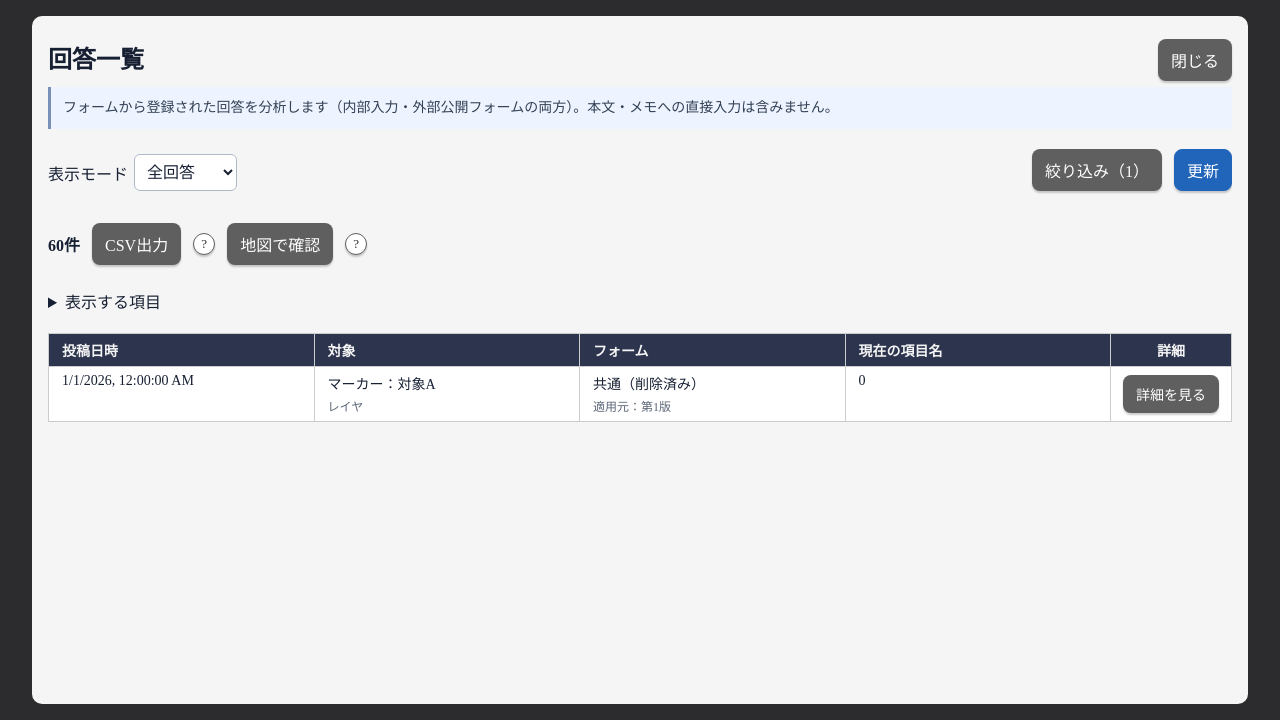
it: 回答一覧 › 共通フォームの検索と削除済み表示、投稿時定義の詳細を表示する
Click the button "詳細を見る" at (1171,394), box [1123,375,1219,413]
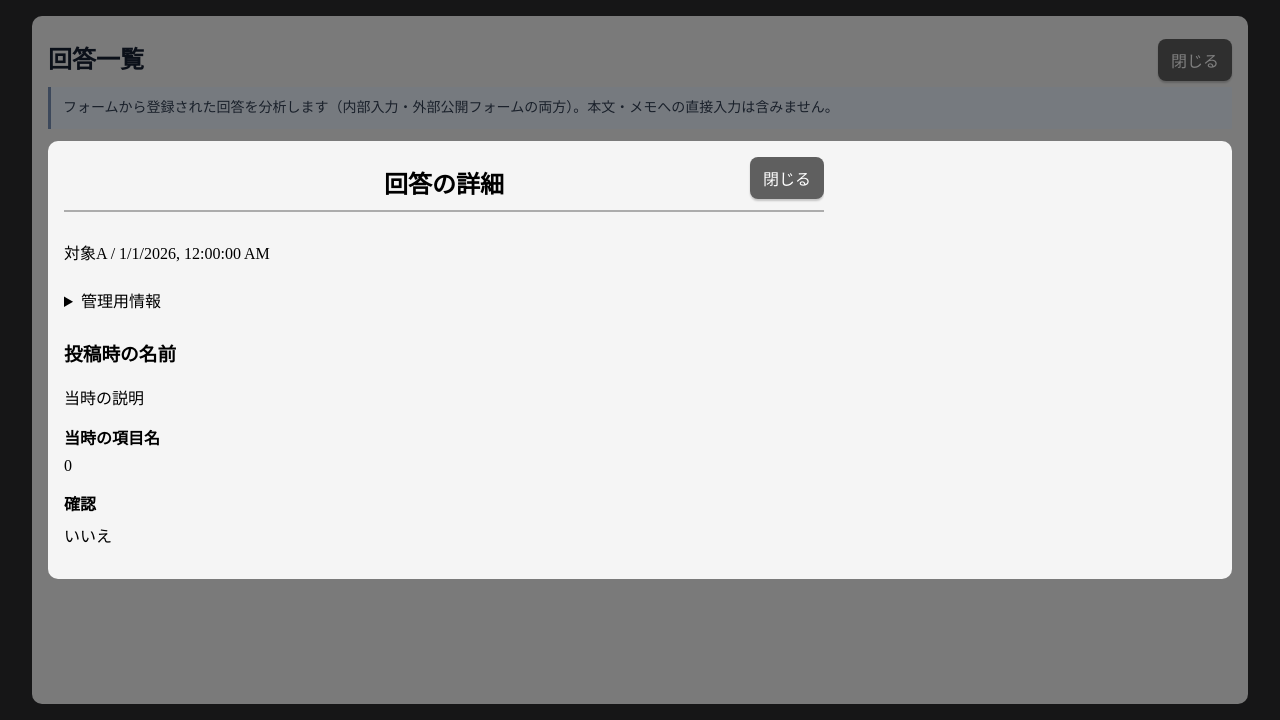
Now the text "投稿時の名前" is shown, box [64,344,176,365]
Now the text "当時の項目名" is shown, box [64,430,160,447]
Now the text "いいえ" is shown, box [64,528,112,545]
